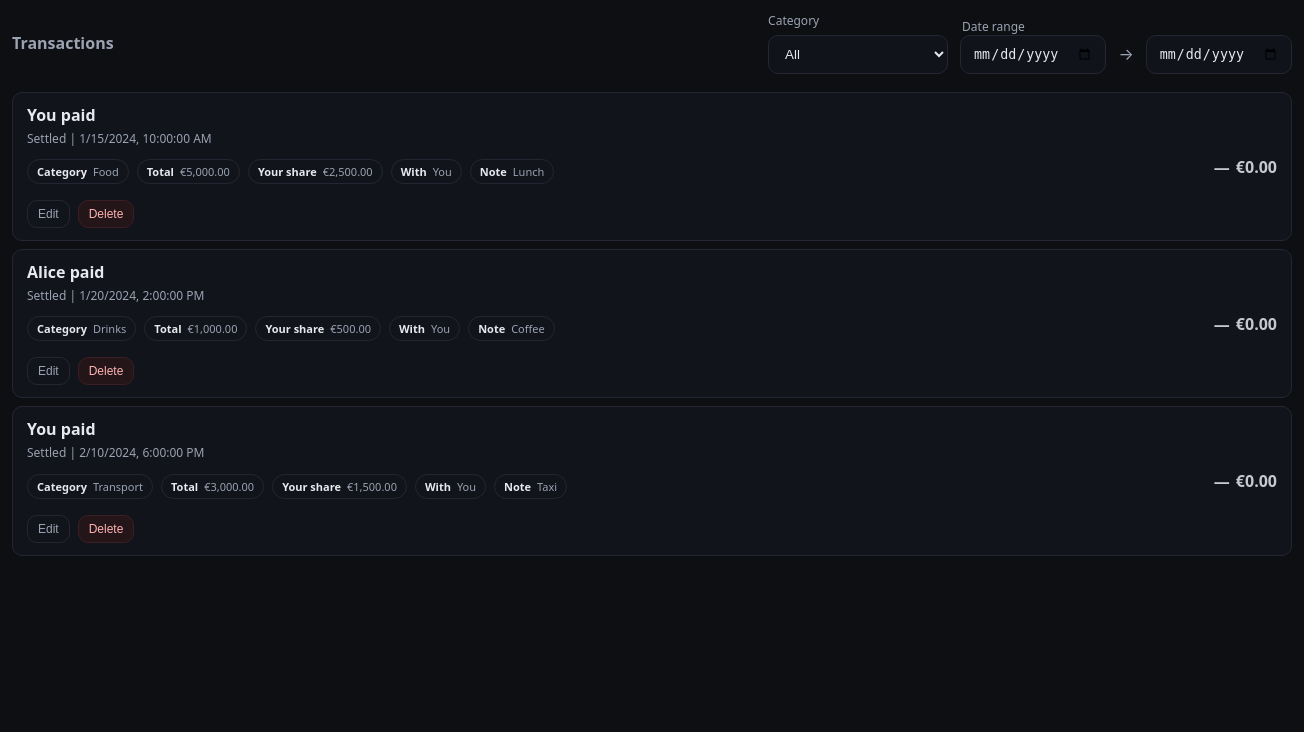
Test: TransactionList › Filtering › shows 'Clear filters' button when category filter is active
Expected: the text "Clear filters" is not shown
// Apply category filter
Step 1. Select "Food" in the dropdown labelled "Category" → (858, 54), box [768,35,948,74]
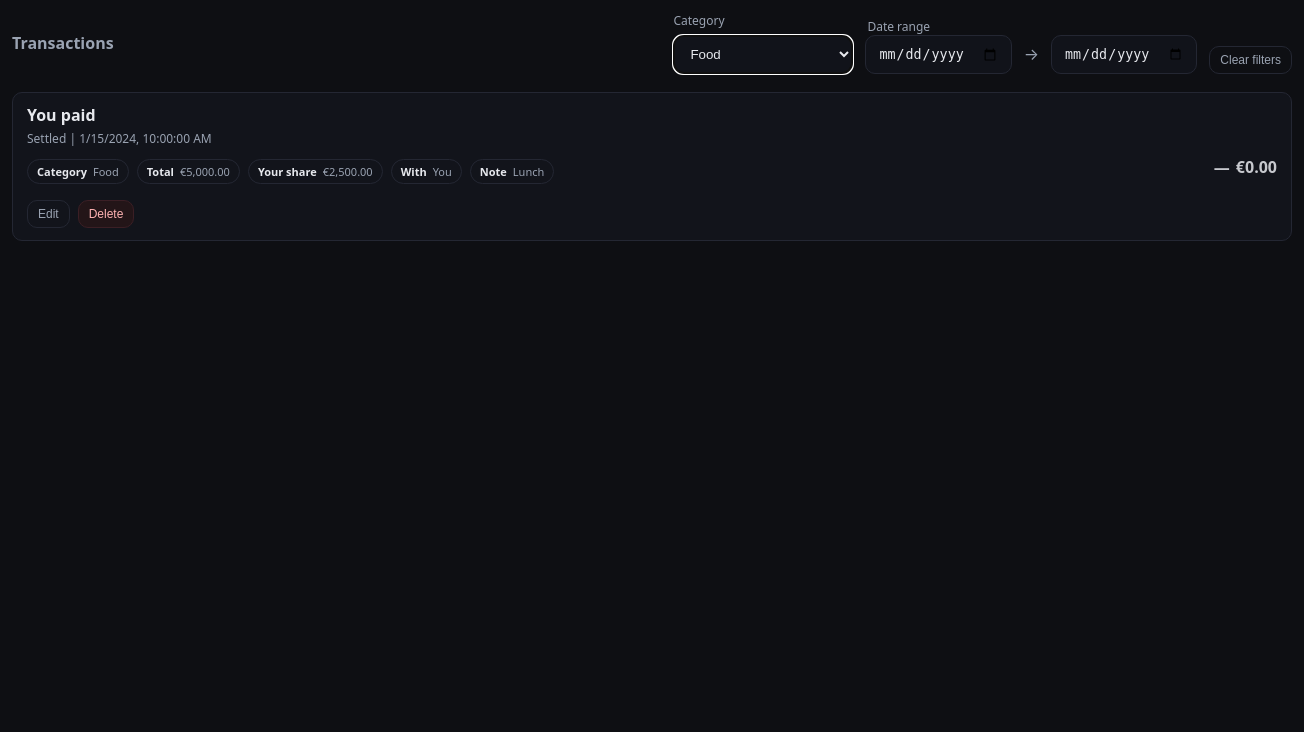
Now the button "Clear filters" is shown, box [1209,46,1292,74]
